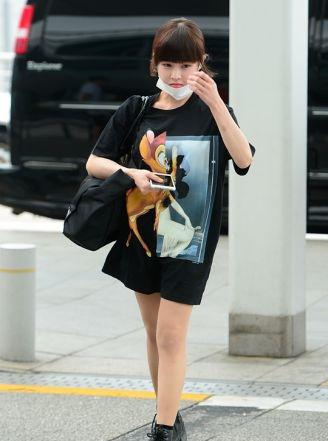WRONG: (156, 55, 198, 97)
